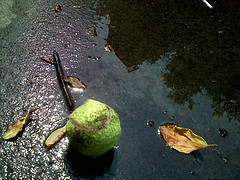tennis ball: (63, 99, 122, 158)
